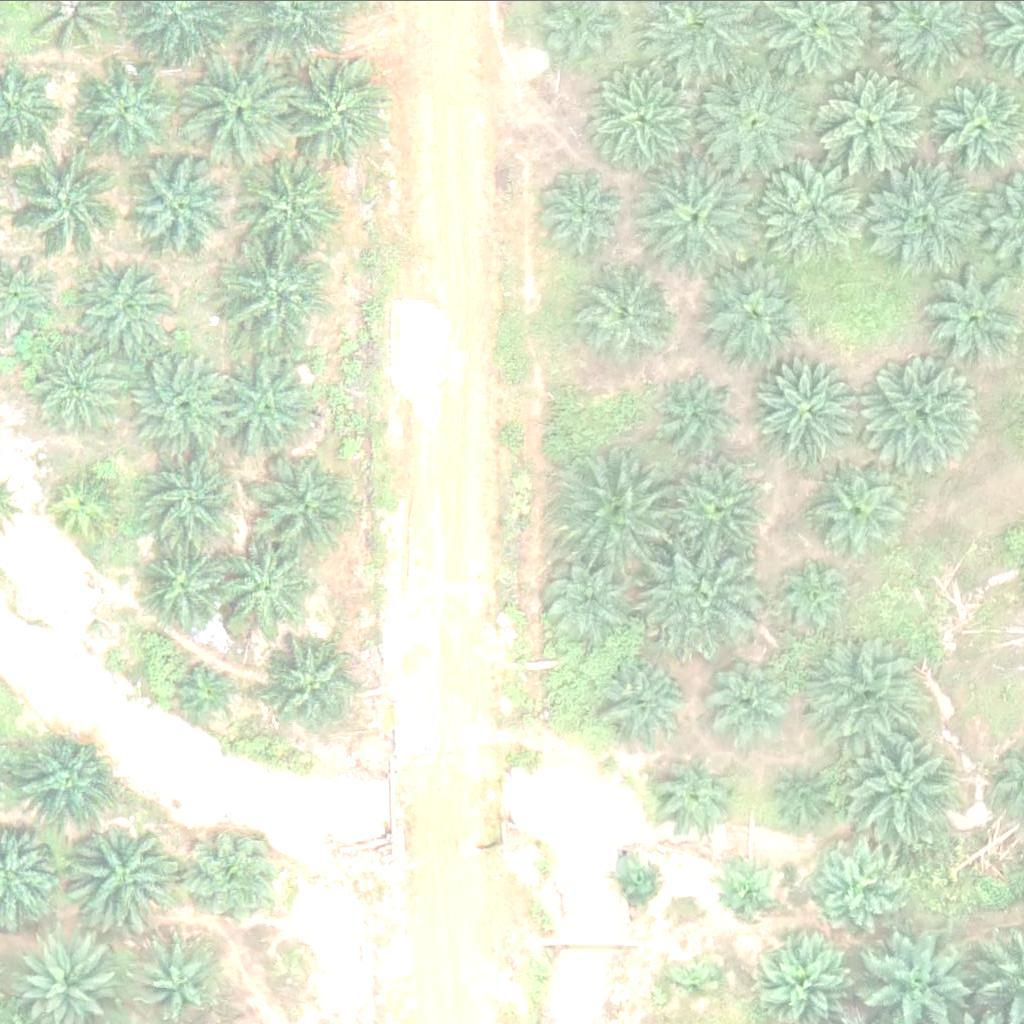Kelapa_Sawit: (868, 360, 982, 473), (817, 634, 931, 747), (818, 66, 931, 179), (589, 66, 702, 179), (759, 152, 872, 265), (840, 729, 953, 842), (283, 52, 396, 165), (124, 347, 237, 460), (212, 350, 325, 463), (251, 448, 364, 561), (695, 68, 809, 180), (4, 141, 118, 253), (221, 243, 335, 355), (638, 155, 751, 267), (874, 158, 987, 270), (754, 350, 867, 462), (567, 453, 680, 565), (646, 543, 759, 655), (183, 54, 296, 166), (240, 153, 353, 265), (64, 816, 177, 928), (532, 161, 633, 261), (920, 267, 1021, 367), (705, 266, 806, 366), (665, 459, 766, 559), (532, 553, 633, 653), (129, 158, 230, 258), (80, 258, 181, 358), (146, 450, 247, 550), (137, 535, 238, 635), (18, 733, 119, 833), (263, 633, 364, 733), (191, 825, 292, 925), (582, 262, 682, 362), (807, 458, 907, 558), (71, 60, 171, 160), (28, 335, 128, 435), (217, 540, 317, 640), (603, 660, 692, 747), (656, 366, 744, 453), (773, 553, 861, 640), (702, 660, 790, 747), (806, 844, 894, 931), (650, 750, 738, 837), (136, 932, 224, 1019), (51, 467, 126, 542), (175, 652, 250, 727), (719, 865, 770, 915), (609, 858, 659, 908), (778, 767, 828, 817), (672, 955, 722, 1005)
